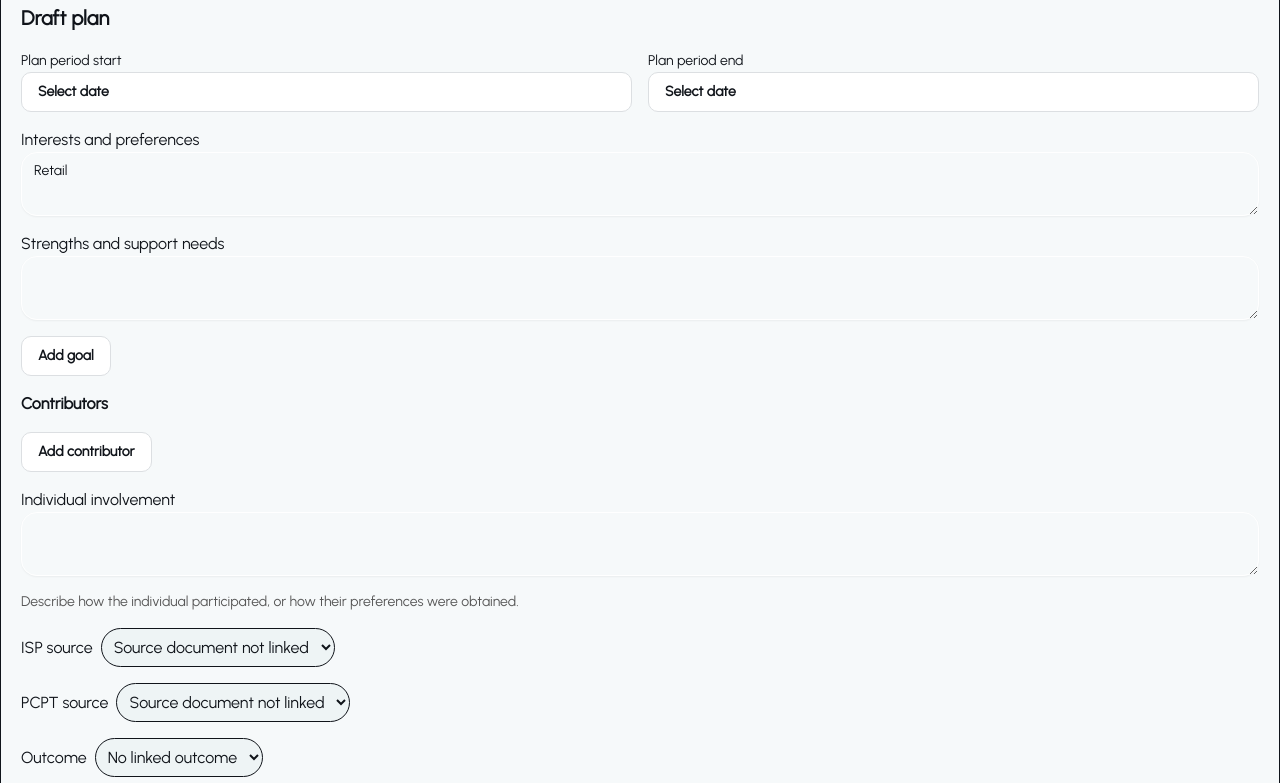
does not publish unsaved changes
Replace the text in the text box labelled "Interests and preferences" with "Gardening": {"x": 640, "y": 184} 21,152 -> 1259,216
(page scrolled)
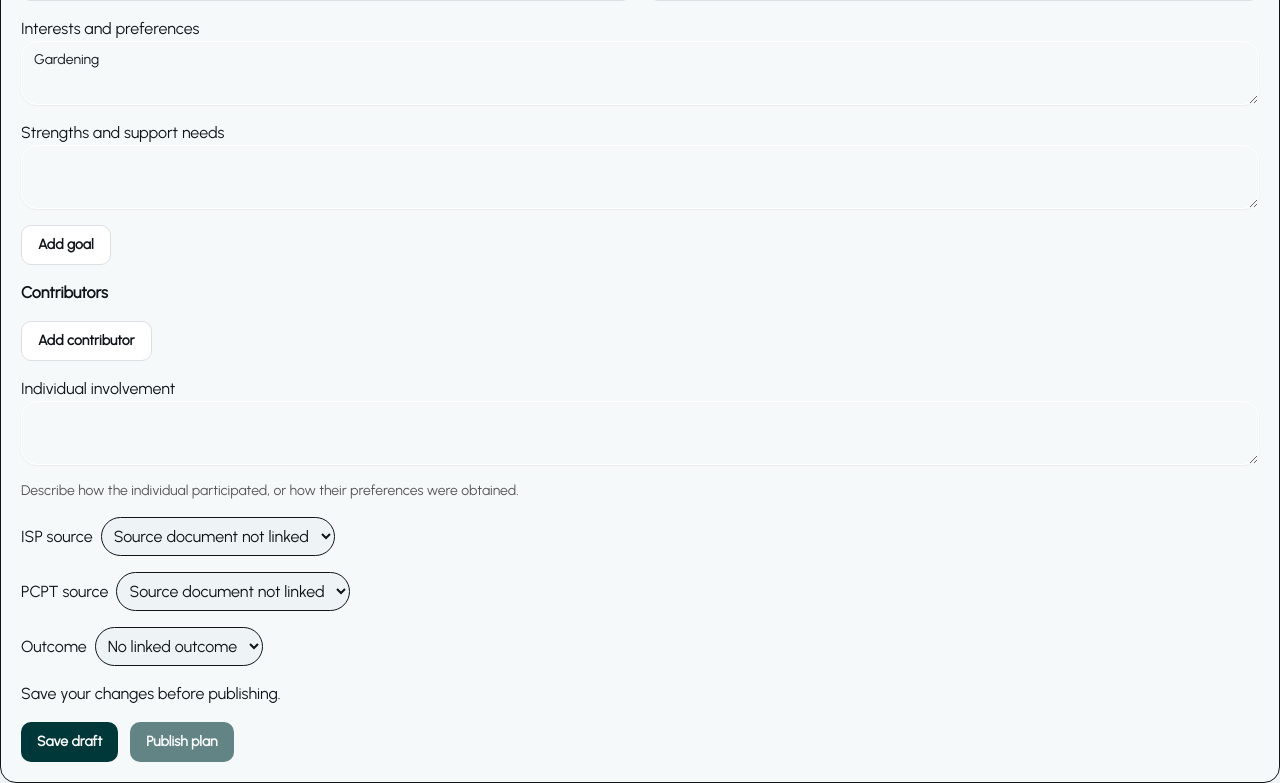
Now the button "Publish plan" is disabled, box 130,722 -> 234,762
